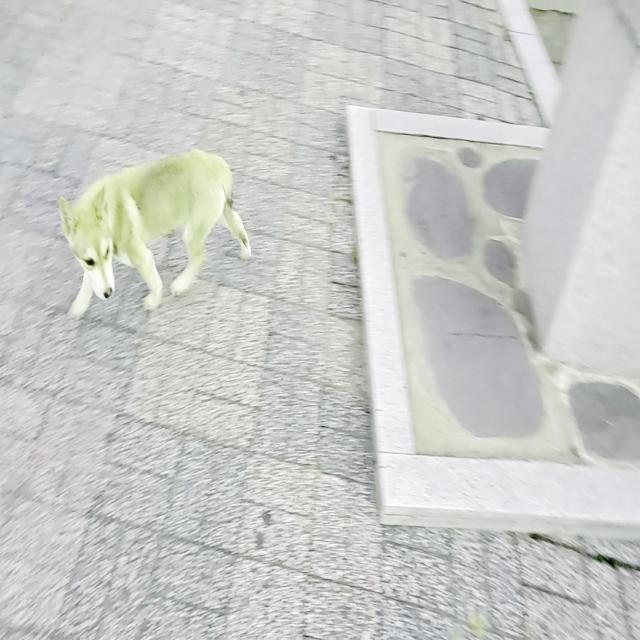Dog: (58, 149, 251, 317)
